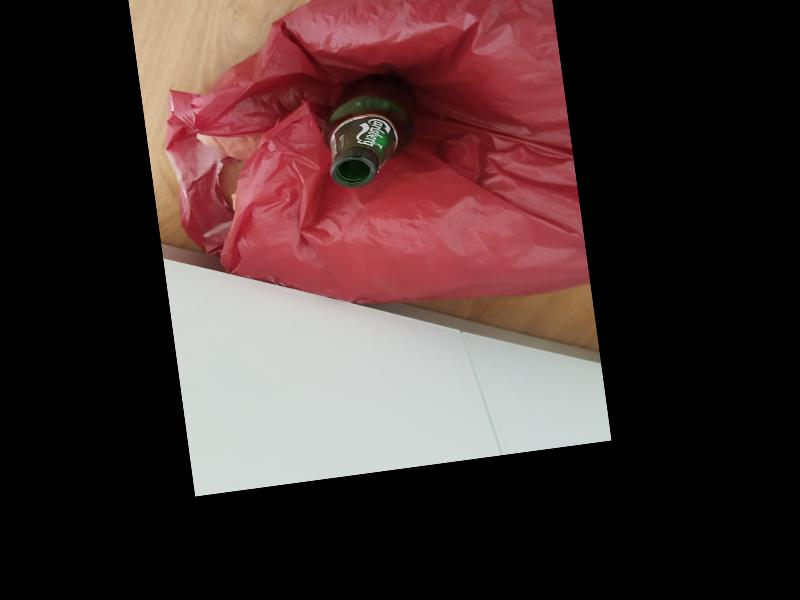Beer: (317, 69, 421, 189)
